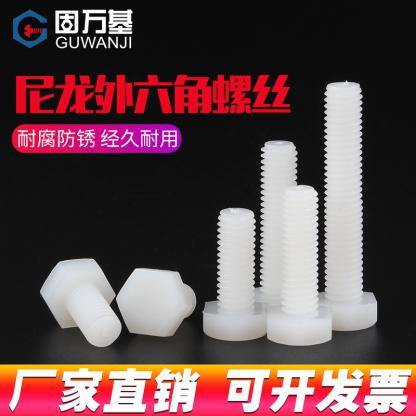FOD: (312, 78, 380, 332), (264, 181, 335, 348), (248, 139, 309, 326), (202, 205, 270, 343), (40, 255, 122, 350), (113, 266, 198, 338)
